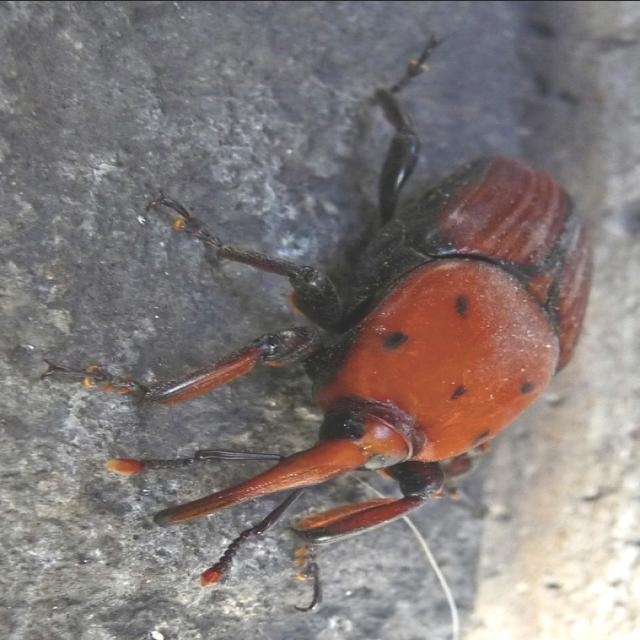Red-palm-weevil: (105, 145, 593, 594)
